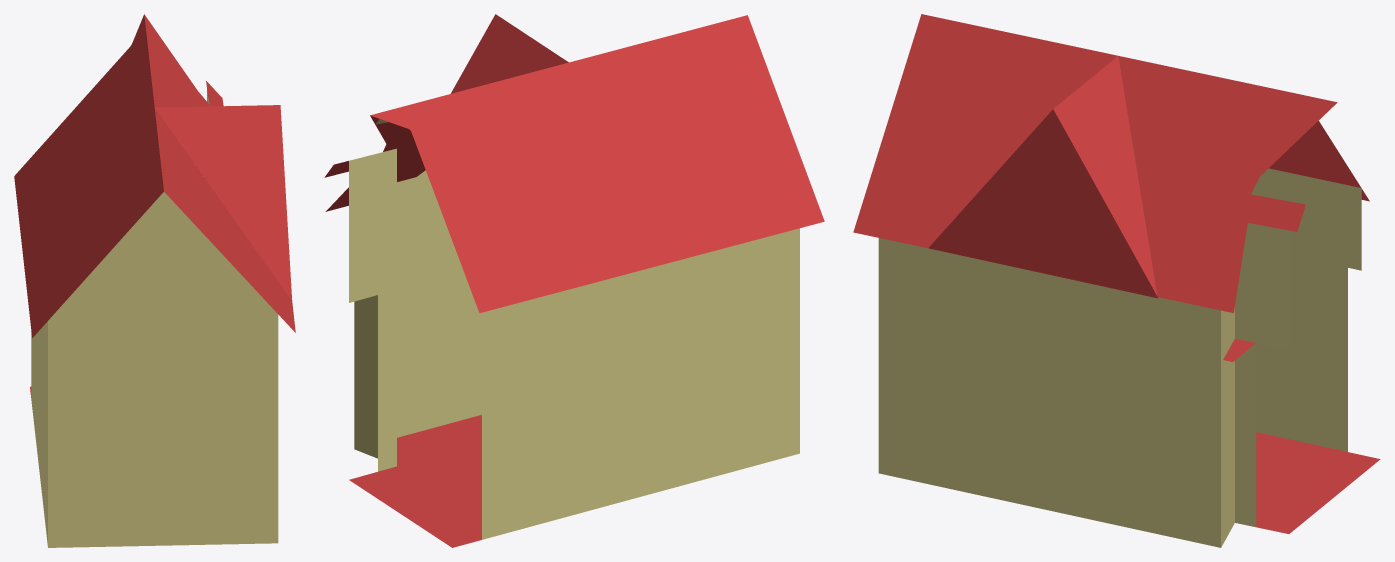
3 renders of one model, left to right at view 1: azimuth 30°, elevation 25°; view 2: azimuth 150°, elevation 25°; view 3: azimuth 270°, elevation 25°, orthographic. The views are drawn at different scales.
Parts seen in each view (by area): view 1: group_10, group_7, group_3, group_9; view 2: group_10, group_7, group_5, group_11, group_3, group_6, group_9; view 3: group_7, group_10, group_5, group_3, group_11, group_9, group_4.
Boxes of the visible parts, x1=… form: group_10: x1=31, y1=89, x2=278, y2=547; group_7: x1=14, y1=14, x2=295, y2=337; group_3: x1=155, y1=105, x2=292, y2=300; group_9: x1=15, y1=14, x2=293, y2=335; group_10: x1=349, y1=119, x2=799, y2=539; group_7: x1=324, y1=15, x2=824, y2=313; group_5: x1=403, y1=170, x2=481, y2=435; group_11: x1=349, y1=436, x2=481, y2=547; group_3: x1=461, y1=14, x2=568, y2=90; group_6: x1=404, y1=415, x2=481, y2=487; group_9: x1=328, y1=187, x2=822, y2=310; group_7: x1=853, y1=14, x2=1369, y2=312; group_10: x1=878, y1=168, x2=1361, y2=547; group_5: x1=936, y1=250, x2=1166, y2=535; group_3: x1=928, y1=56, x2=1158, y2=298; group_11: x1=1256, y1=432, x2=1380, y2=533; group_9: x1=854, y1=27, x2=1368, y2=301; group_4: x1=1054, y1=111, x2=1159, y2=298.
Bounding box in the file's own units: 18.43 × 21.11 × 18.08.
